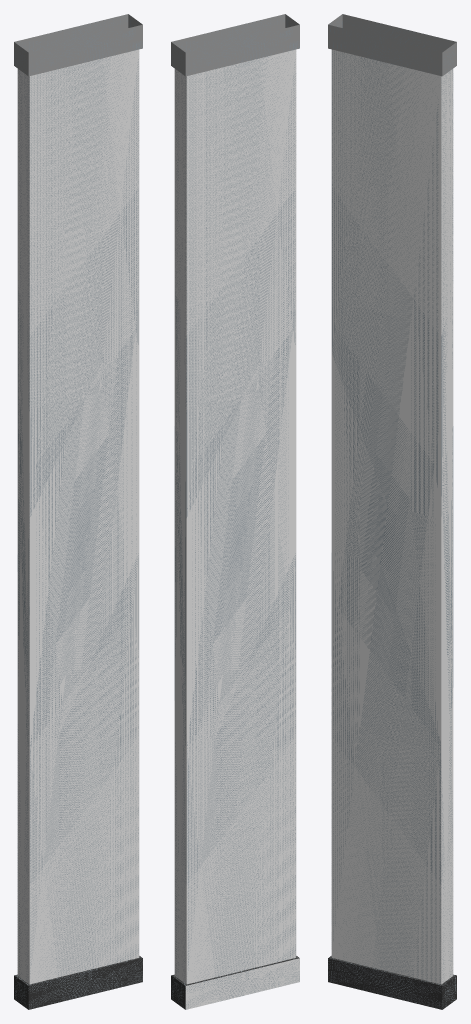
File: Column_ds_plinth_050x010x4.dae
3 views of the same model, side by side, from view 1: azimuth 30°, elevation 25°; view 2: azimuth 210°, elevation 25°; view 3: azimuth 330°, elevation 25° (orthographic).
Visible parts, largest first — view 1: group_0 (×3); view 2: group_0 (×4); view 3: group_0 (×3).
Boxes of the visible parts, left/top/right/bottom form: group_0 (×3): left=14, top=14, right=142, bottom=1009; group_0 (×4): left=171, top=14, right=299, bottom=1009; group_0 (×3): left=328, top=14, right=456, bottom=1009.
Size of the model in its own units: 19.69 by 4.33 by 157.
